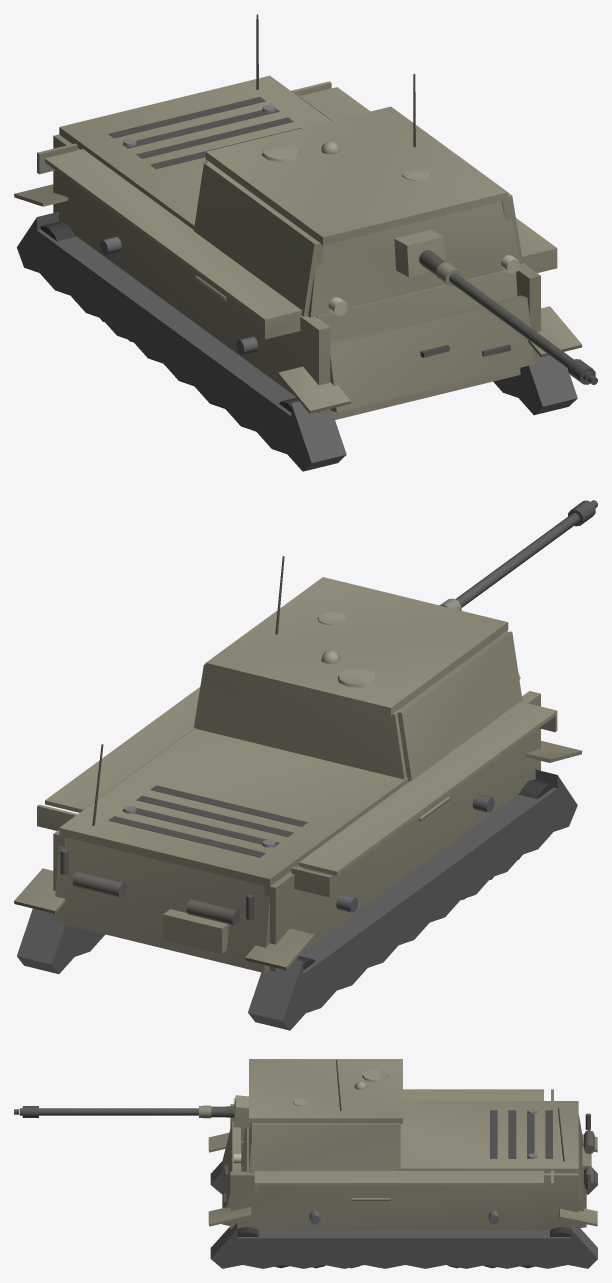
File: tortoise.glb
3 views of the same model, one above another, from view 1: azimuth 30°, elevation 25°; view 2: azimuth 150°, elevation 25°; view 3: azimuth 270°, elevation 25° (orthographic). The views are drawn at different scales.
Parts seen in each view (by area): view 1: hullSide, tracks, turretRoof, hullTop, lowerPlate, mantlet, turretSide, glacis, barrel; view 2: hullTop, hullSide, tracks, turretRoof, turretSide, hullRear, barrel; view 3: hullSide, tracks, hullTop, turretRoof, turretSide, barrel, hullRear, lowerPlate, mantlet, glacis.
Boxes of the visible parts, x1,y1,x2,y2 form: hullSide: (37,81,557,413); tracks: (14,184,582,471); turretRoof: (205,73,508,245); hullTop: (59,75,331,229); lowerPlate: (330,295,534,412); mantlet: (308,202,521,317); turretSide: (194,160,522,316); glacis: (316,270,520,419); barrel: (419,250,597,384); hullTop: (59,728,408,886); hullSide: (37,672,557,971); tracks: (14,741,582,1030); turretRoof: (205,556,508,715); turretSide: (194,631,522,781); hullRear: (53,744,271,972); barrel: (439,500,597,610); hullSide: (230,1089,578,1229); tracks: (208,1132,597,1268); hullTop: (397,1101,578,1173); turretRoof: (249,1059,402,1123); turretSide: (252,1123,400,1174); barrel: (14,1105,235,1118); hullRear: (557,1107,594,1228); lowerPlate: (222,1121,240,1225); mantlet: (233,1095,254,1173); glacis: (223,1128,248,1204).
Bounding box in the file's own units: 4.58 × 4.3 × 12.07.
